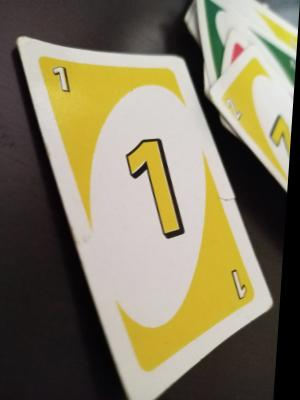num_1: (33, 50, 85, 111), (224, 81, 268, 124)
